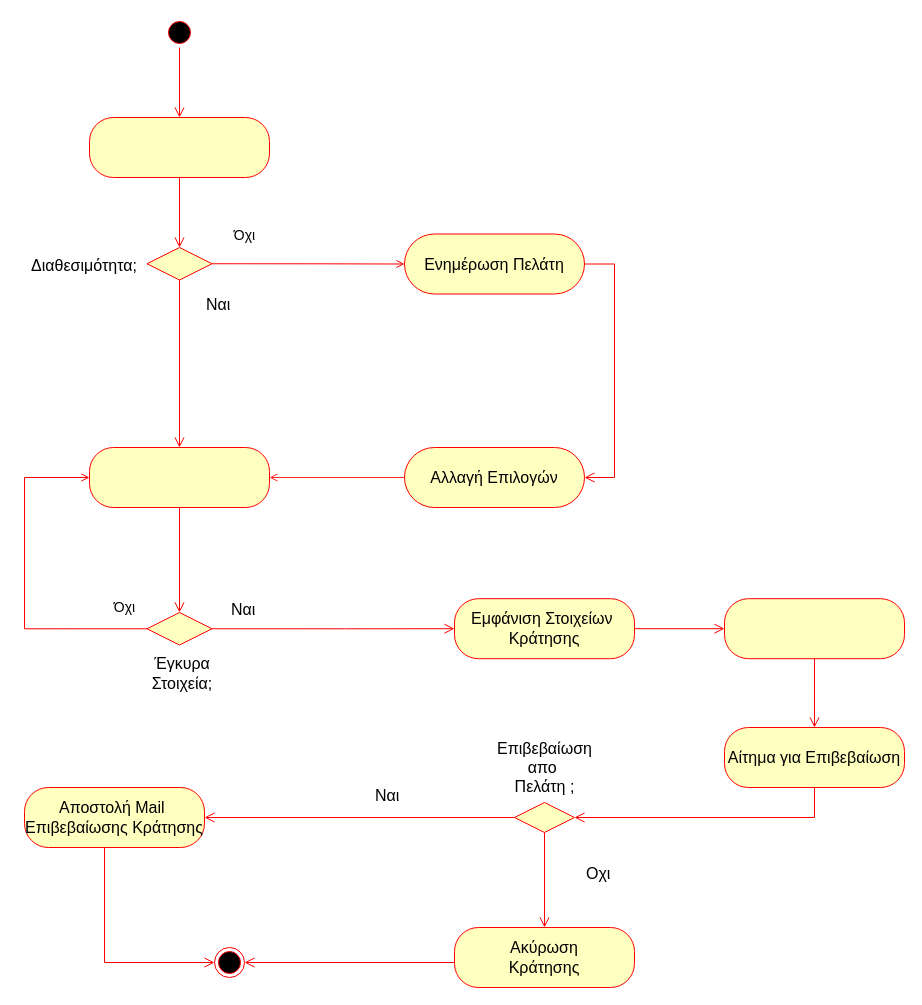
The diagram is 922 pixels wide and 1005 high, and some of its shapes have lost their labels. Here are the shapes that lost their labels. From the top down, the centre of each, then its label:
At (x=179, y=147): "Ζήτηση Κράτησης".
At (x=179, y=477): "Εισαγωγή Στοιχείων".
At (x=814, y=628): "Εμφάνιση Προθεσμίας Πληρωμής".
